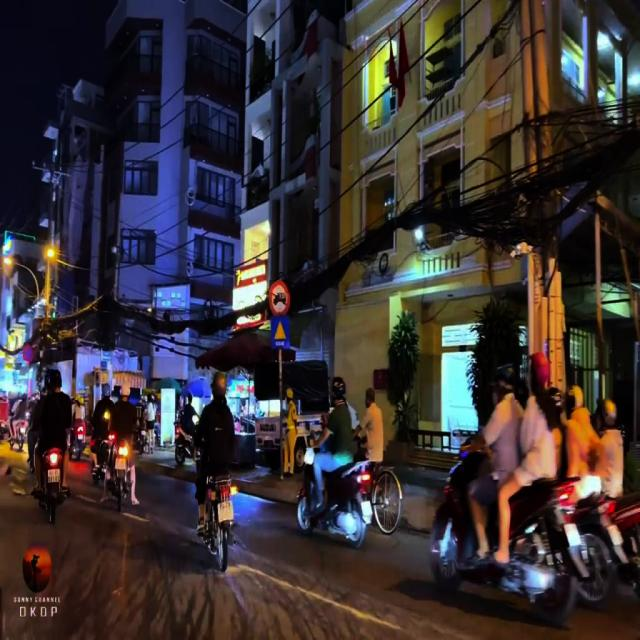cam_dung_xe_va_do_xe: (24, 342, 36, 361)
cam_o_to_tai_trong_luong_qua_2-5t: (270, 280, 290, 317)
cho: (272, 316, 290, 348)
